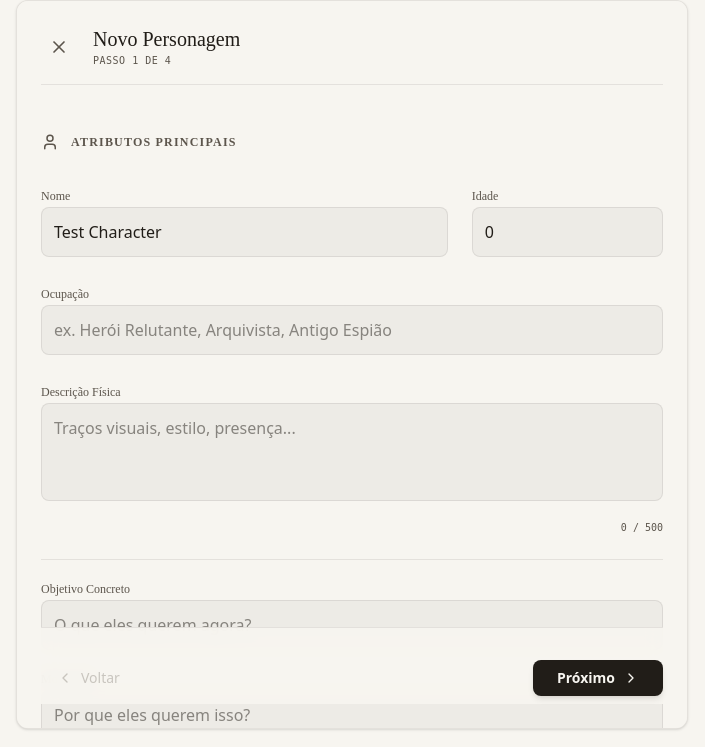
it: CharacterWizard › should show tooltip on hover
Go to Step 2
Click the button "Próximo".
click(598, 678)  # box [533,660,663,696]
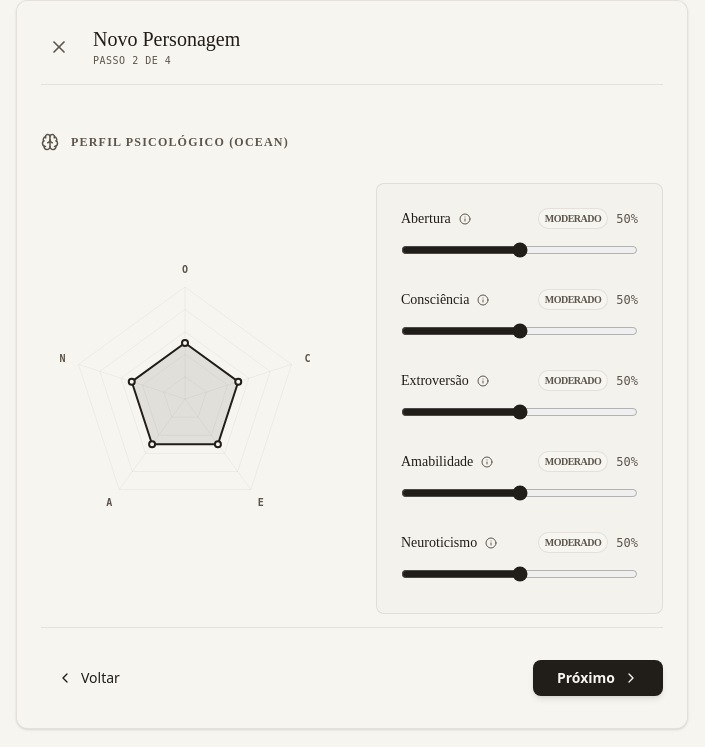
Find help icon for Neuroticism
Hover over the button with test id "help-neuroticism".
mouse_move(491, 542)  # box [485,536,497,548]
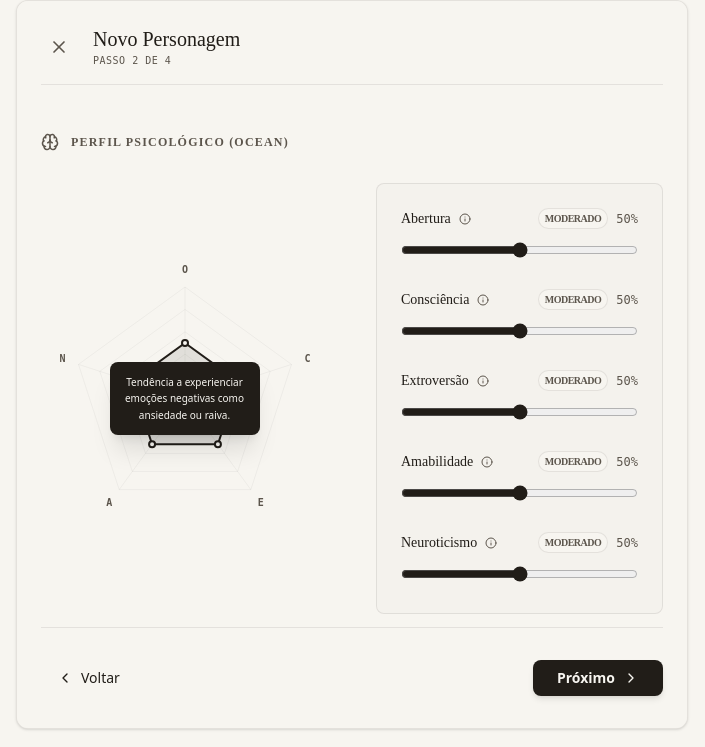
Check: the text "Tendência a experienciar emoções negativas" is shown, box [125,375,244,422]
